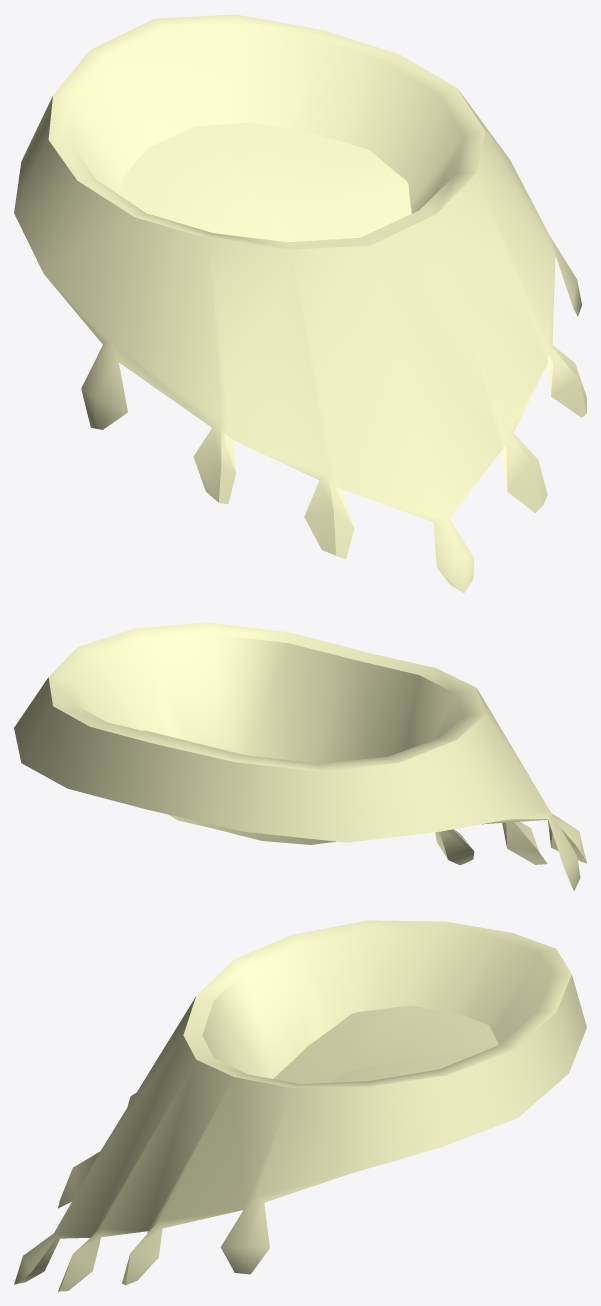
The model's file is scarf2.fbx.
The picture shows the model from 3 angles, top to bottom: view 1: azimuth 30°, elevation 25°; view 2: azimuth 150°, elevation 25°; view 3: azimuth 270°, elevation 25°; orthographic projection. The views are drawn at different scales.
Visible parts, largest first — view 1: scarf2; view 2: scarf2; view 3: scarf2.
Part boxes in pixels (box(x1,y1,x2,y2)): scarf2: box(14, 14, 586, 592); scarf2: box(14, 622, 586, 891); scarf2: box(14, 920, 586, 1291).
Bounding box in the file's own units: 76 × 51.73 × 86.38.
1 material, 1 textured.
